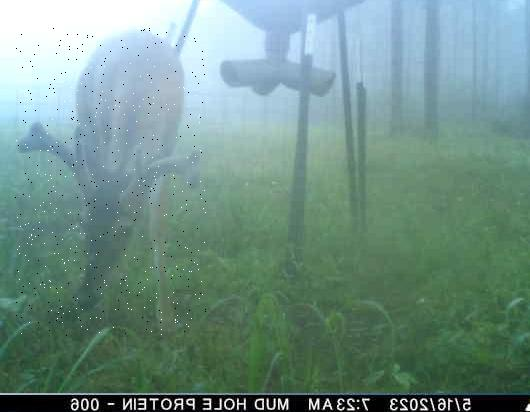Deer: (15, 28, 206, 336)
